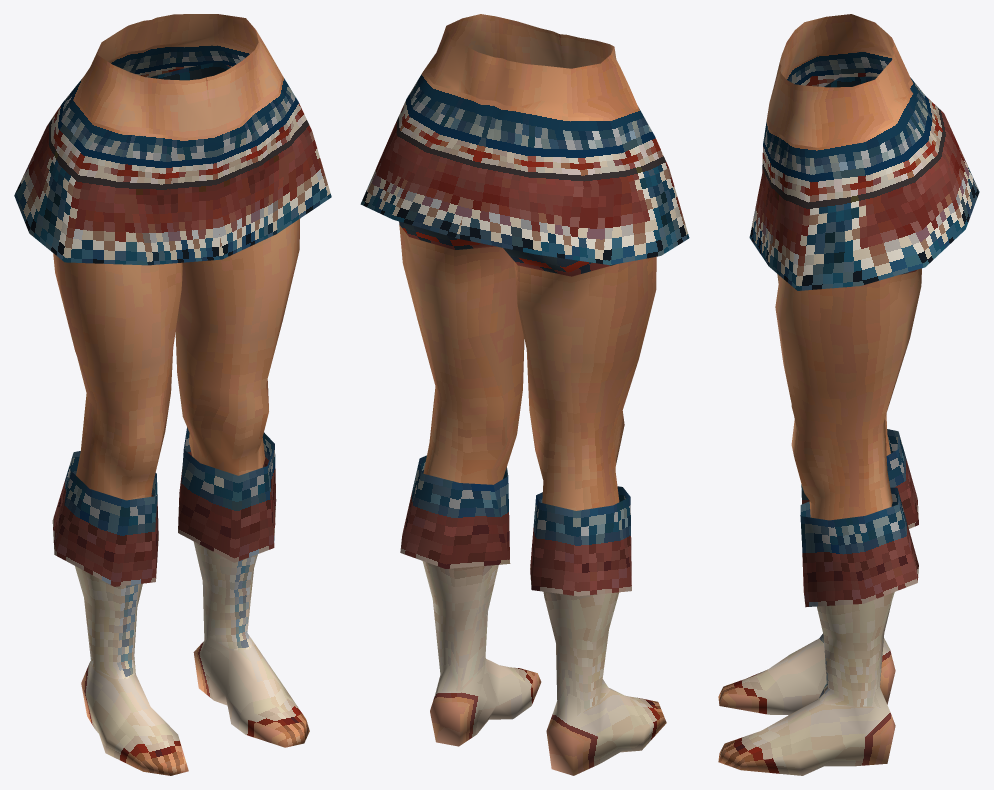
File: f_legging167.obj
3 renders of one model, left to right at view 1: azimuth 30°, elevation 25°; view 2: azimuth 150°, elevation 25°; view 3: azimuth 270°, elevation 25°, orthographic. The views are drawn at different scales.
Visible parts, largest first — view 1: mesh02, mesh03, mesh01, mesh00; view 2: mesh02, mesh01, mesh03, mesh00; view 3: mesh02, mesh03, mesh01.
Boxes of the visible parts, x1,y1,x2,y2 form: mesh02: (53, 14, 300, 500); mesh03: (14, 43, 331, 265); mesh01: (52, 427, 309, 775); mesh00: (149, 61, 230, 80); mesh02: (399, 14, 656, 510); mesh01: (400, 455, 666, 775); mesh03: (360, 72, 689, 265); mesh00: (399, 221, 615, 276); mesh02: (767, 14, 921, 520); mesh03: (749, 50, 979, 290); mesh01: (718, 429, 918, 775).
Bounding box in the file's own units: 47.12 × 111 × 38.54.
4 materials, 4 textured.
